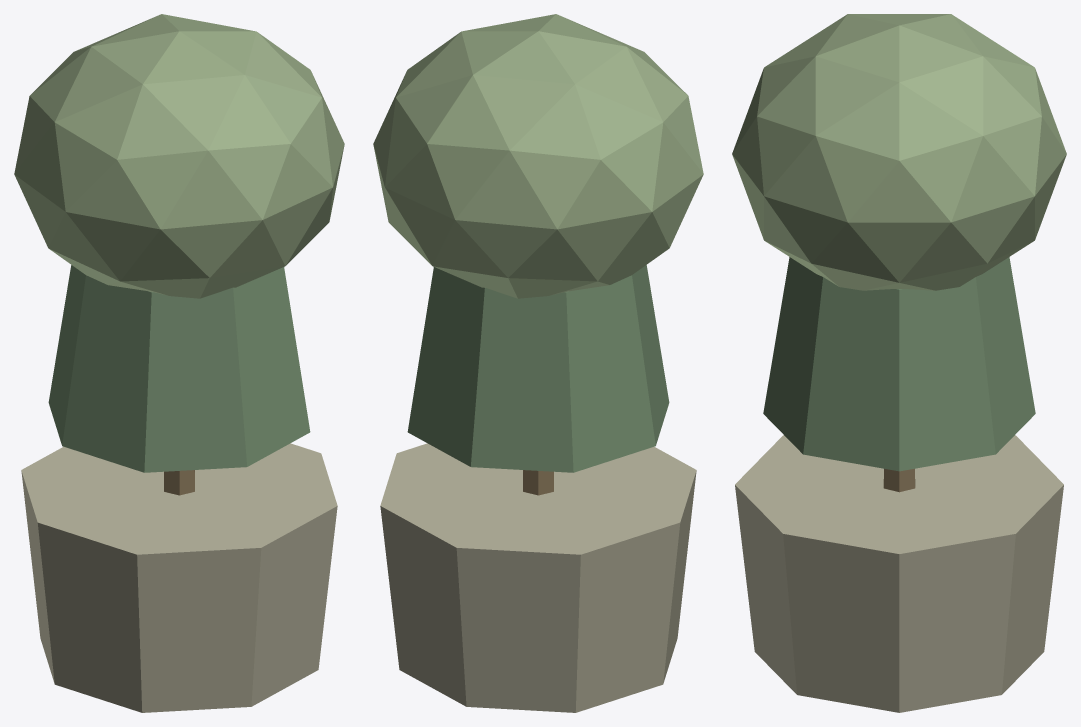
File: map-exclusive-v3__champion_03.glb
3 renders of one model, left to right at view 1: azimuth 30°, elevation 25°; view 2: azimuth 150°, elevation 25°; view 3: azimuth 270°, elevation 25°, orthographic.
Parts seen in each view (by area): view 1: champion_03; view 2: champion_03; view 3: champion_03.
Boxes of the visible parts, x1=… form: champion_03: x1=14, y1=14, x2=344, y2=712; champion_03: x1=373, y1=14, x2=703, y2=712; champion_03: x1=732, y1=14, x2=1066, y2=712.
Size of the model in its own units: 1.16 by 2.43 by 1.18.
